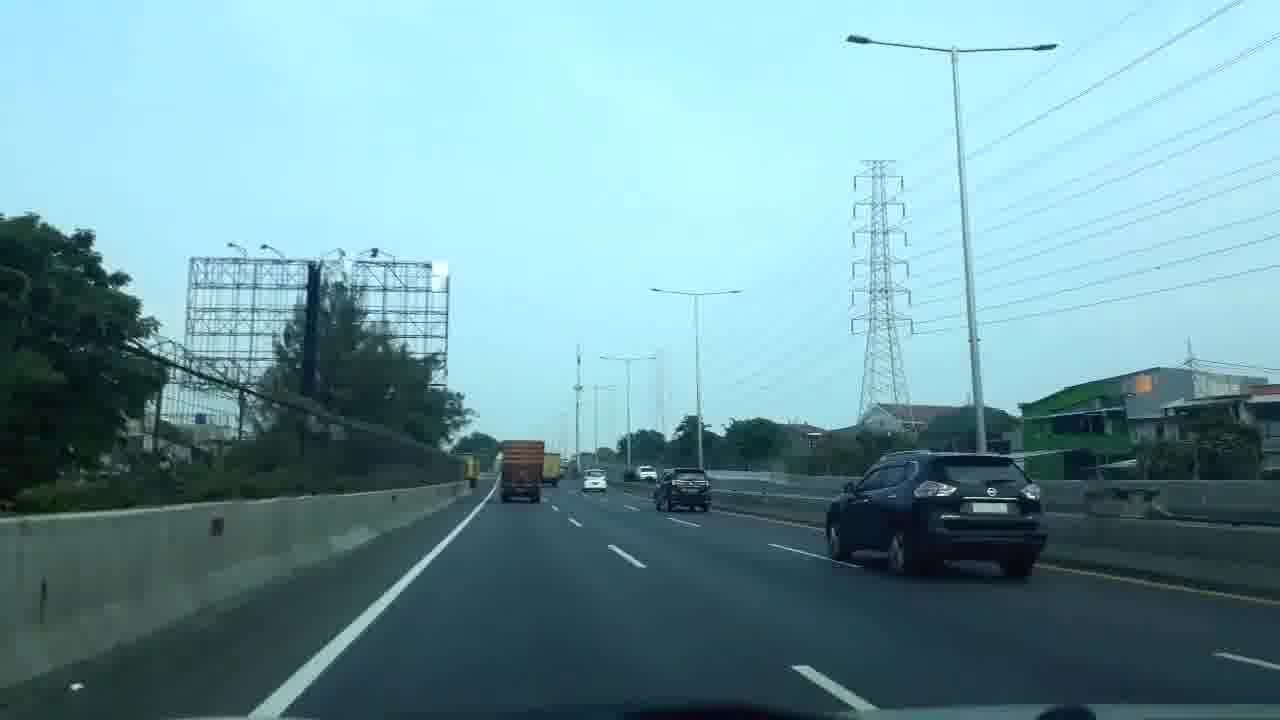plate_positive: (972, 501, 1008, 513)
